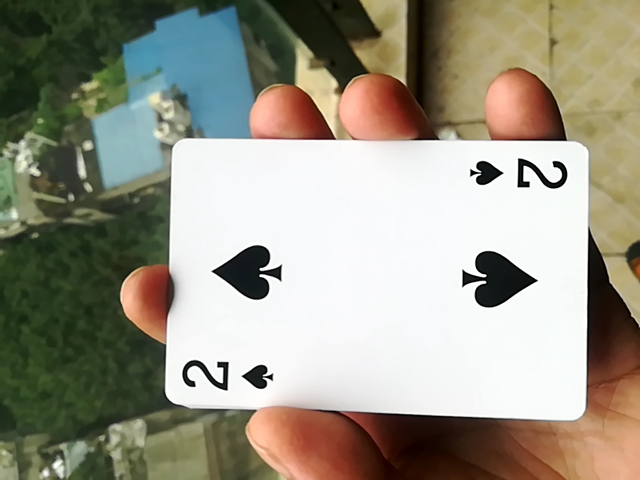ht 2: (149, 132, 586, 430)
